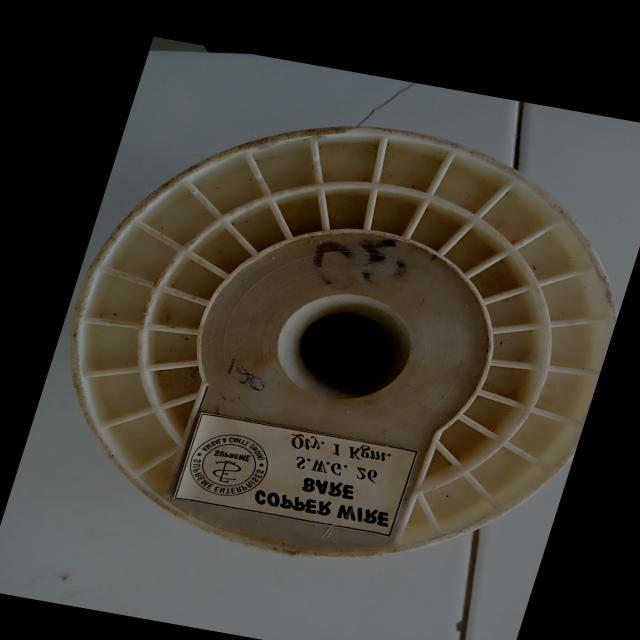Copper Wire: (11, 81, 640, 602)
